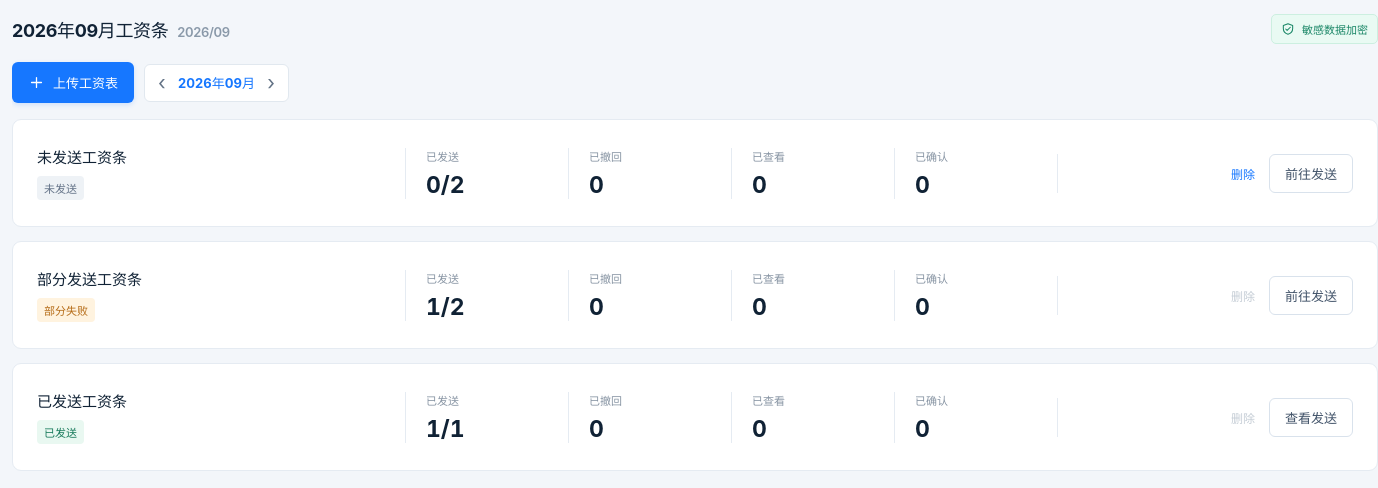
Test: salary management › shows monthly actions from delivery progress and never exposes batch settings
expect the text "未发送工资条" is shown: met, box top-left (37, 148), bottom-right (127, 167)
expect the button "前往发送" in the row of "未发送工资条" is enabled: met, box top-left (1269, 154), bottom-right (1353, 192)
Click the button "查看发送" at (1311, 417), box top-left (1269, 398), bottom-right (1353, 436)
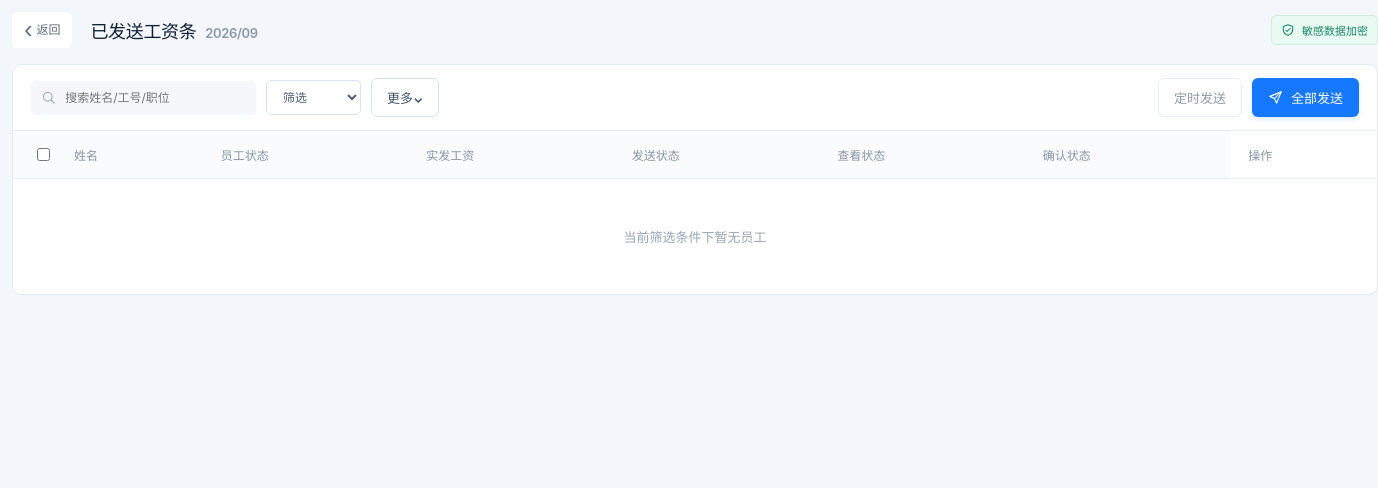
expect the column heading "姓名" is shown: met, box top-left (56, 131), bottom-right (203, 178)
